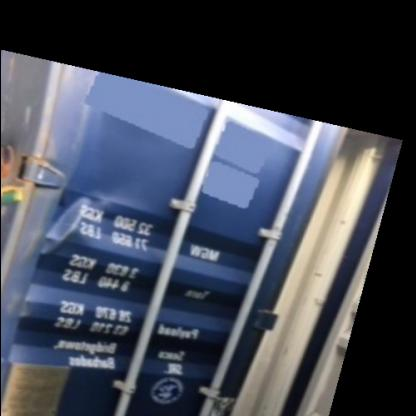Damage: (22, 189, 98, 257), (1, 100, 37, 183)
